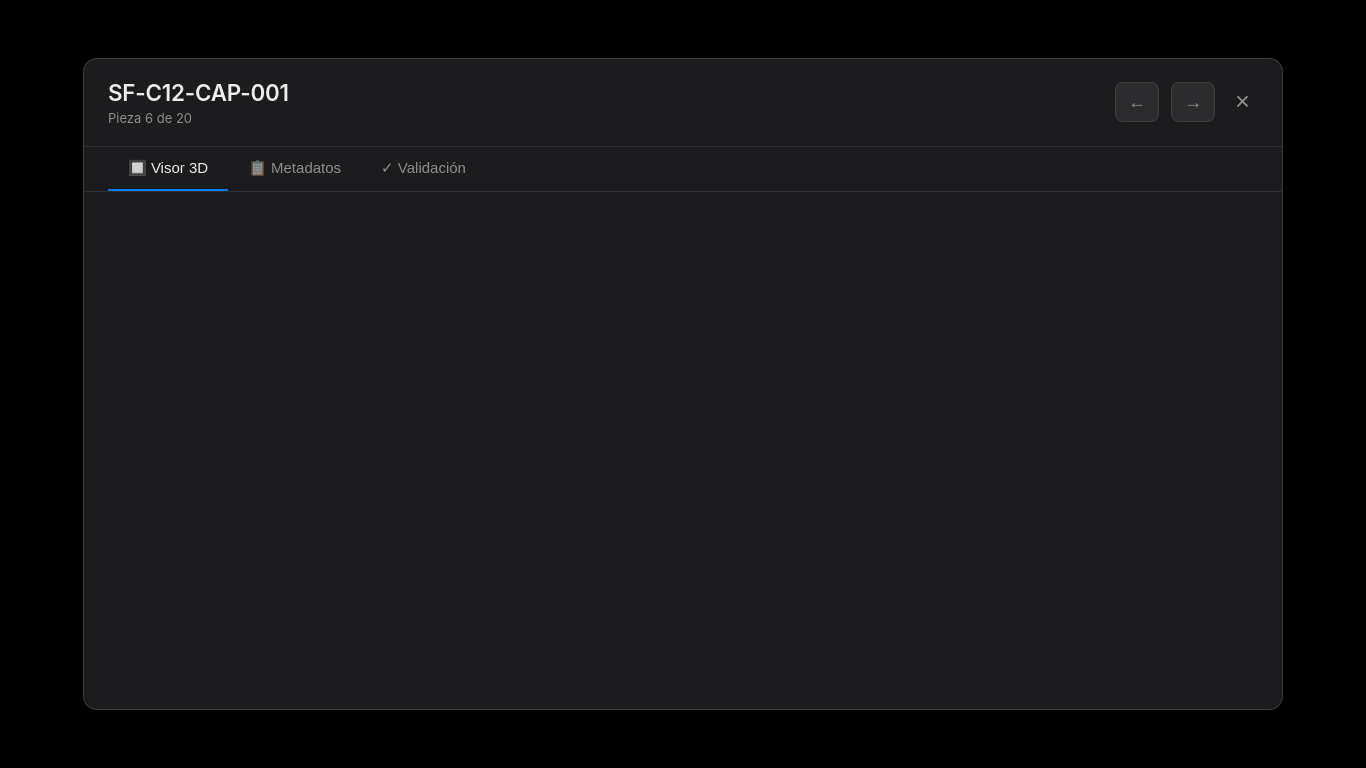
Scenario: T-1009-TEST-FRONT: 3D Viewer Integration Tests - Happy Path › HP-INT-03: should navigate to previous part when Prev button clicked
The image size is (1366, 768).
Check: the heading "SF-C12-CAP-001" is shown, box [108,79,289,106]
Note: Click Prev button
Click the button named "pieza anterior" at point(1137, 102), box [1115,82,1159,122]
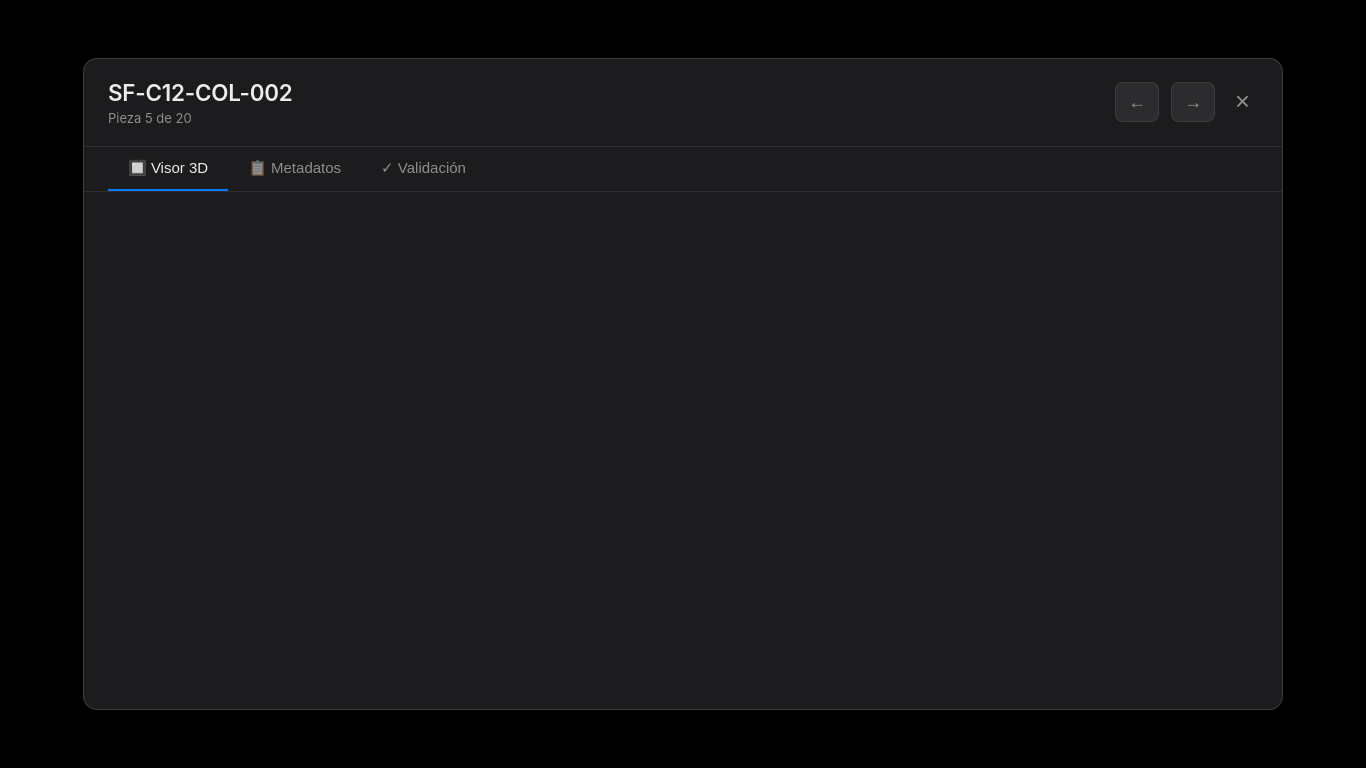
Check: the heading "SF-C12-COL-002" is shown, box [108,79,292,106]
